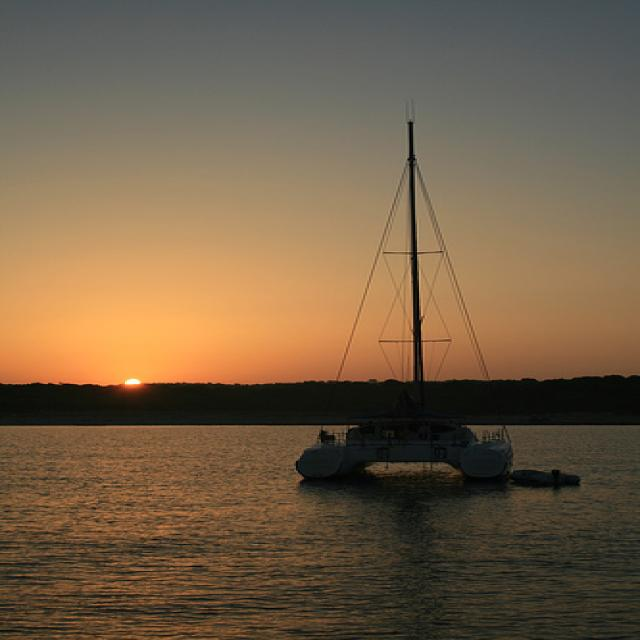Boat: (296, 81, 568, 525)
